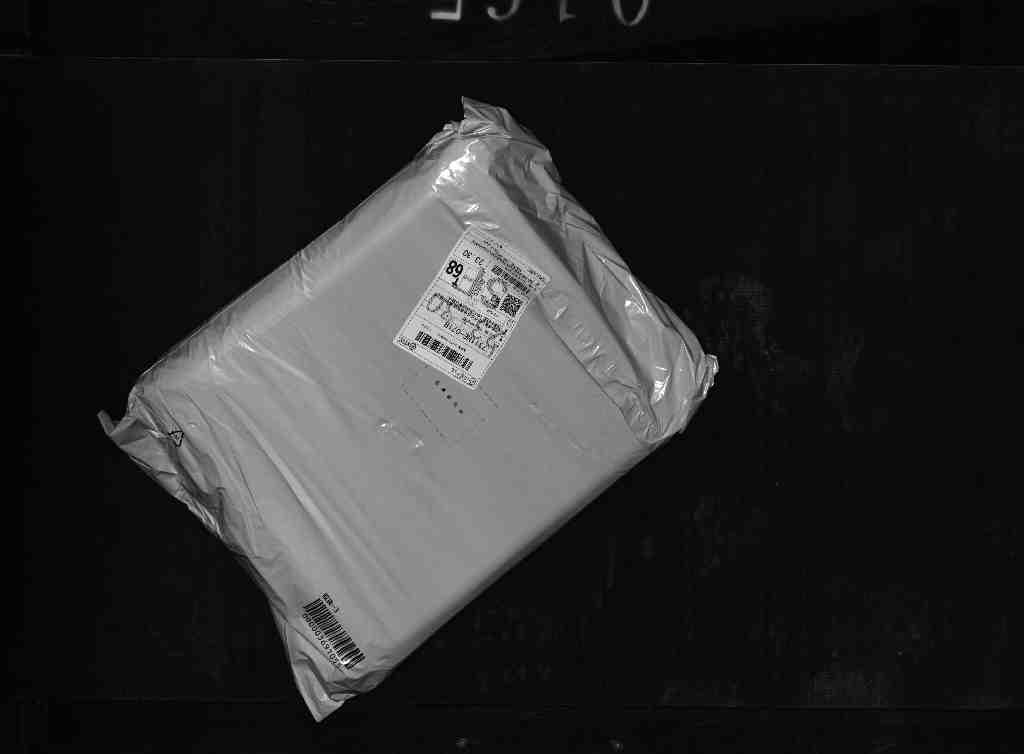box: (89, 97, 730, 727)
